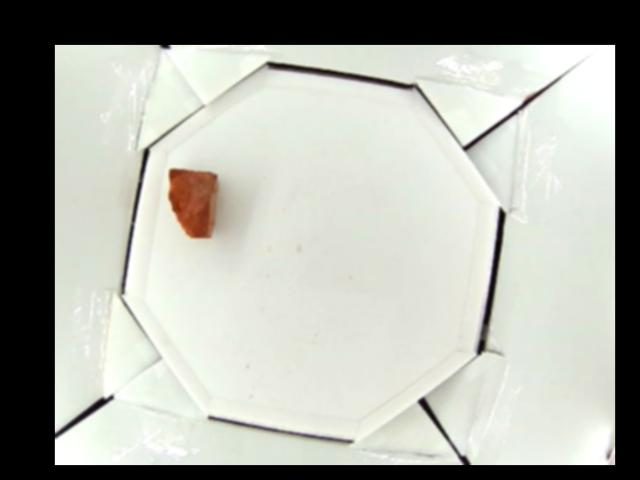Brisk: (166, 168, 220, 239)
